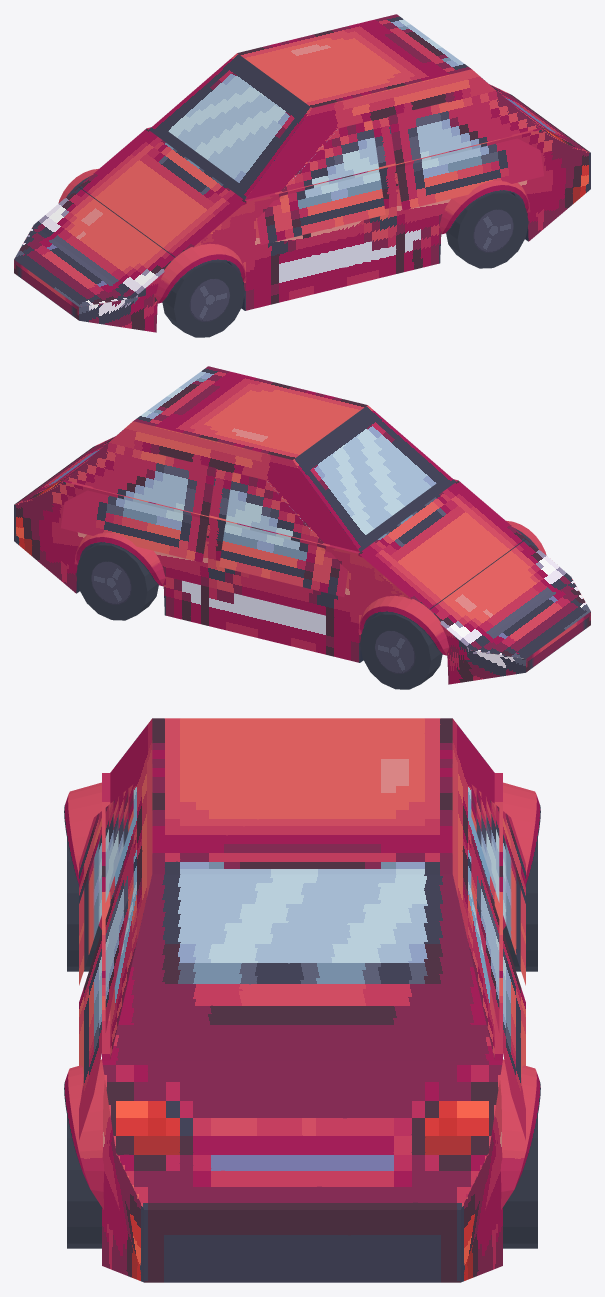
Rendered from compact-4-v1.glb.
3 renders of one model, top to bottom at view 1: azimuth 30°, elevation 25°; view 2: azimuth 150°, elevation 25°; view 3: azimuth 270°, elevation 25°, orthographic. The views are drawn at different scales.
Parts seen in each view (by area): view 1: Body · left, Hood, Windshield, Roof, Window and frame · left · rear, Cabin · left, Window and frame · left · front, Tire · -17 · -1, Tire · 17 · -1, Raised fender · left · -17, Raised fender · left · 17, Hub · 17 · -1 (+4 smaller); view 2: Body · right, Hood, Windshield, Roof, Window and frame · right · rear, Cabin · right, Window and frame · right · front, Tire · -17 · 1, Tire · 17 · 1, Raised fender · right · -17, Raised fender · right · 17, Hub · 17 · 1 (+4 smaller); view 3: Rear windshield, Rear hatch, Roof, Rear fascia, Cabin · left, Cabin · right, Window and frame · left · rear, Window and frame · right · rear, Body · left, Body · right, Window and frame · left · front, Window and frame · right · front (+9 smaller).
Part boxes in pixels (x1,y1,x2,y2): Body · left: (79, 129, 590, 332); Hood: (14, 128, 246, 306); Windshield: (149, 53, 311, 199); Roof: (237, 14, 471, 107); Window and frame · left · rear: (389, 102, 543, 210); Cabin · left: (245, 69, 539, 199); Window and frame · left · front: (257, 120, 385, 244); Tire · -17 · -1: (162, 260, 244, 337); Tire · 17 · -1: (446, 191, 528, 268); Raised fender · left · -17: (153, 243, 246, 304); Raised fender · left · 17: (439, 180, 530, 234); Hub · 17 · -1: (473, 209, 513, 252); Body · right: (14, 481, 525, 684); Hood: (358, 480, 590, 658); Windshield: (293, 405, 455, 551); Roof: (133, 366, 367, 459); Window and frame · right · rear: (61, 454, 215, 562); Cabin · right: (65, 421, 359, 551); Window and frame · right · front: (219, 472, 347, 596); Tire · -17 · 1: (360, 612, 442, 689); Tire · 17 · 1: (76, 543, 158, 620); Raised fender · right · -17: (358, 595, 449, 655); Raised fender · right · 17: (74, 532, 165, 586); Hub · 17 · 1: (91, 561, 131, 604); Rear windshield: (110, 874, 494, 1060); Rear hatch: (102, 1060, 502, 1209); Roof: (152, 718, 452, 874); Rear fascia: (144, 1210, 460, 1282); Cabin · left: (110, 718, 152, 1058); Cabin · right: (452, 718, 494, 1058); Window and frame · left · rear: (79, 833, 133, 1139); Window and frame · right · rear: (471, 833, 525, 1139); Body · left: (102, 1061, 144, 1282); Body · right: (460, 1061, 502, 1282); Window and frame · left · front: (79, 784, 133, 985); Window and frame · right · front: (471, 784, 525, 985).
Bounding box in the file's own units: 58.2 × 20.2 × 23.8.
Materials: 1 (1 with a texture image).
